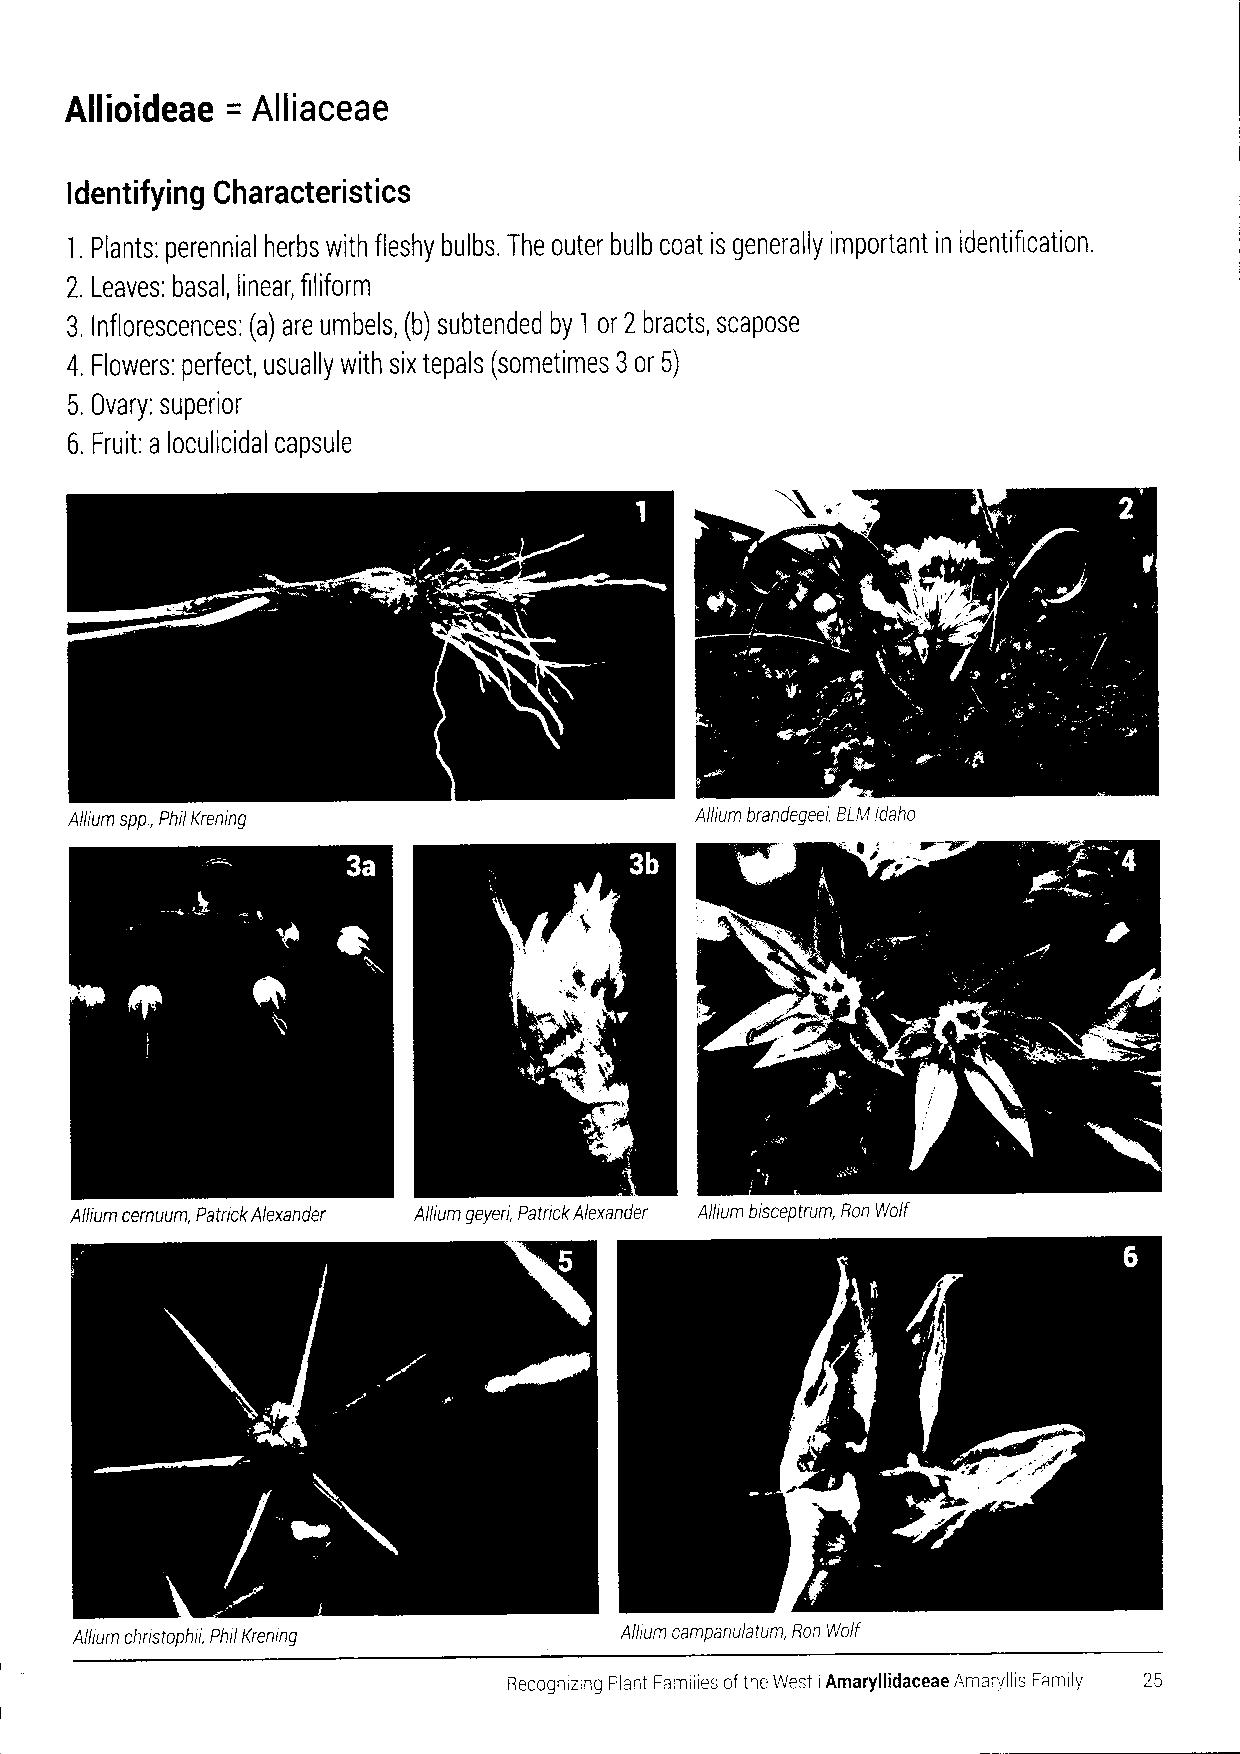chapter: (60, 172, 412, 209), (59, 86, 391, 125)
content: (55, 225, 1168, 1648)
content_chapter: (502, 1667, 1087, 1694)
content_pagenumber: (1138, 1667, 1168, 1691)
